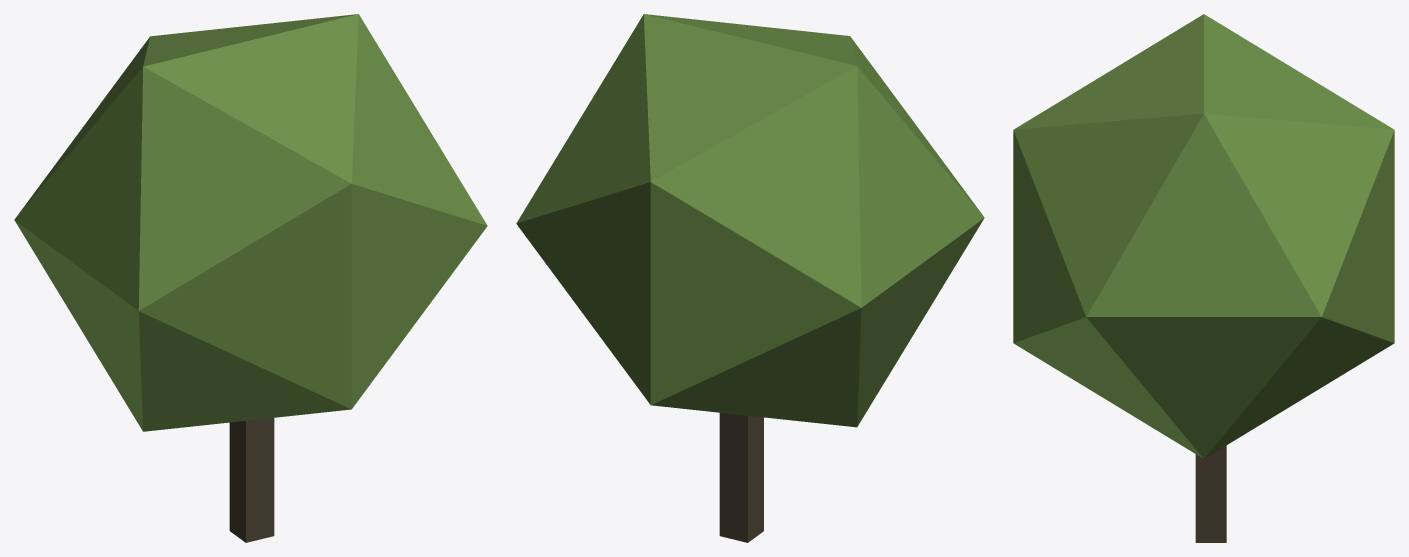
The model's file is testbaum.dae.
The picture shows the model from 3 angles, left to right: view 1: azimuth 30°, elevation 25°; view 2: azimuth 150°, elevation 25°; view 3: azimuth 270°, elevation 25°; orthographic projection. The views are drawn at different scales.
Parts seen in each view (by area): view 1: Platonischer_Körper.1, Würfel; view 2: Platonischer_Körper.1, Würfel; view 3: Platonischer_Körper.1, Würfel.
Boxes of the visible parts, x1=… form: Platonischer_Körper.1: x1=14, y1=14, x2=487, y2=431; Würfel: x1=229, y1=418, x2=274, y2=542; Platonischer_Körper.1: x1=516, y1=14, x2=984, y2=427; Würfel: x1=719, y1=412, x2=763, y2=542; Platonischer_Körper.1: x1=1013, y1=14, x2=1394, y2=458; Würfel: x1=1195, y1=445, x2=1226, y2=542.
Bounding box in the file's own units: 49.21 × 67 × 49.21.
